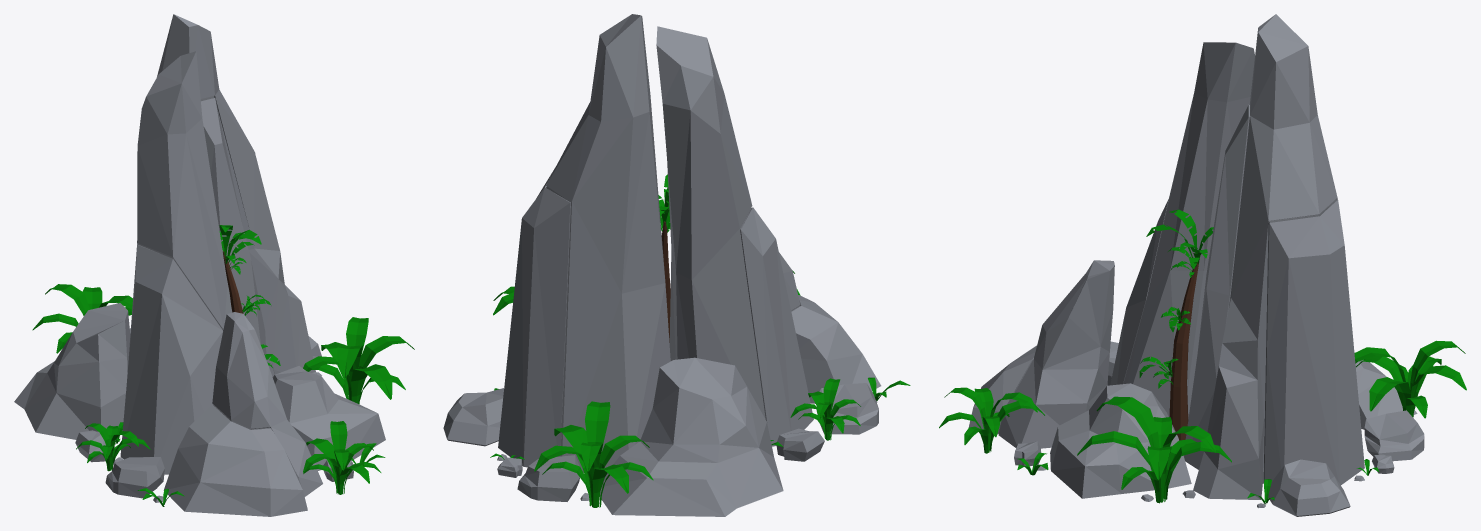
Rendered from SM_Hight_Rock_Cluster_Plant.fbx.
3 renders of one model, left to right at view 1: azimuth 30°, elevation 25°; view 2: azimuth 150°, elevation 25°; view 3: azimuth 270°, elevation 25°, orthographic. The views are drawn at different scales.
Parts seen in each view (by area): view 1: SM_Hight_Rock_Cluster_Plant; view 2: SM_Hight_Rock_Cluster_Plant; view 3: SM_Hight_Rock_Cluster_Plant.
Boxes of the visible parts, x1,y1,x2,y2 form: SM_Hight_Rock_Cluster_Plant: (14, 14, 414, 516); SM_Hight_Rock_Cluster_Plant: (443, 14, 910, 516); SM_Hight_Rock_Cluster_Plant: (939, 14, 1466, 516).
Bounding box in the file's own units: 260 × 298 × 337.
